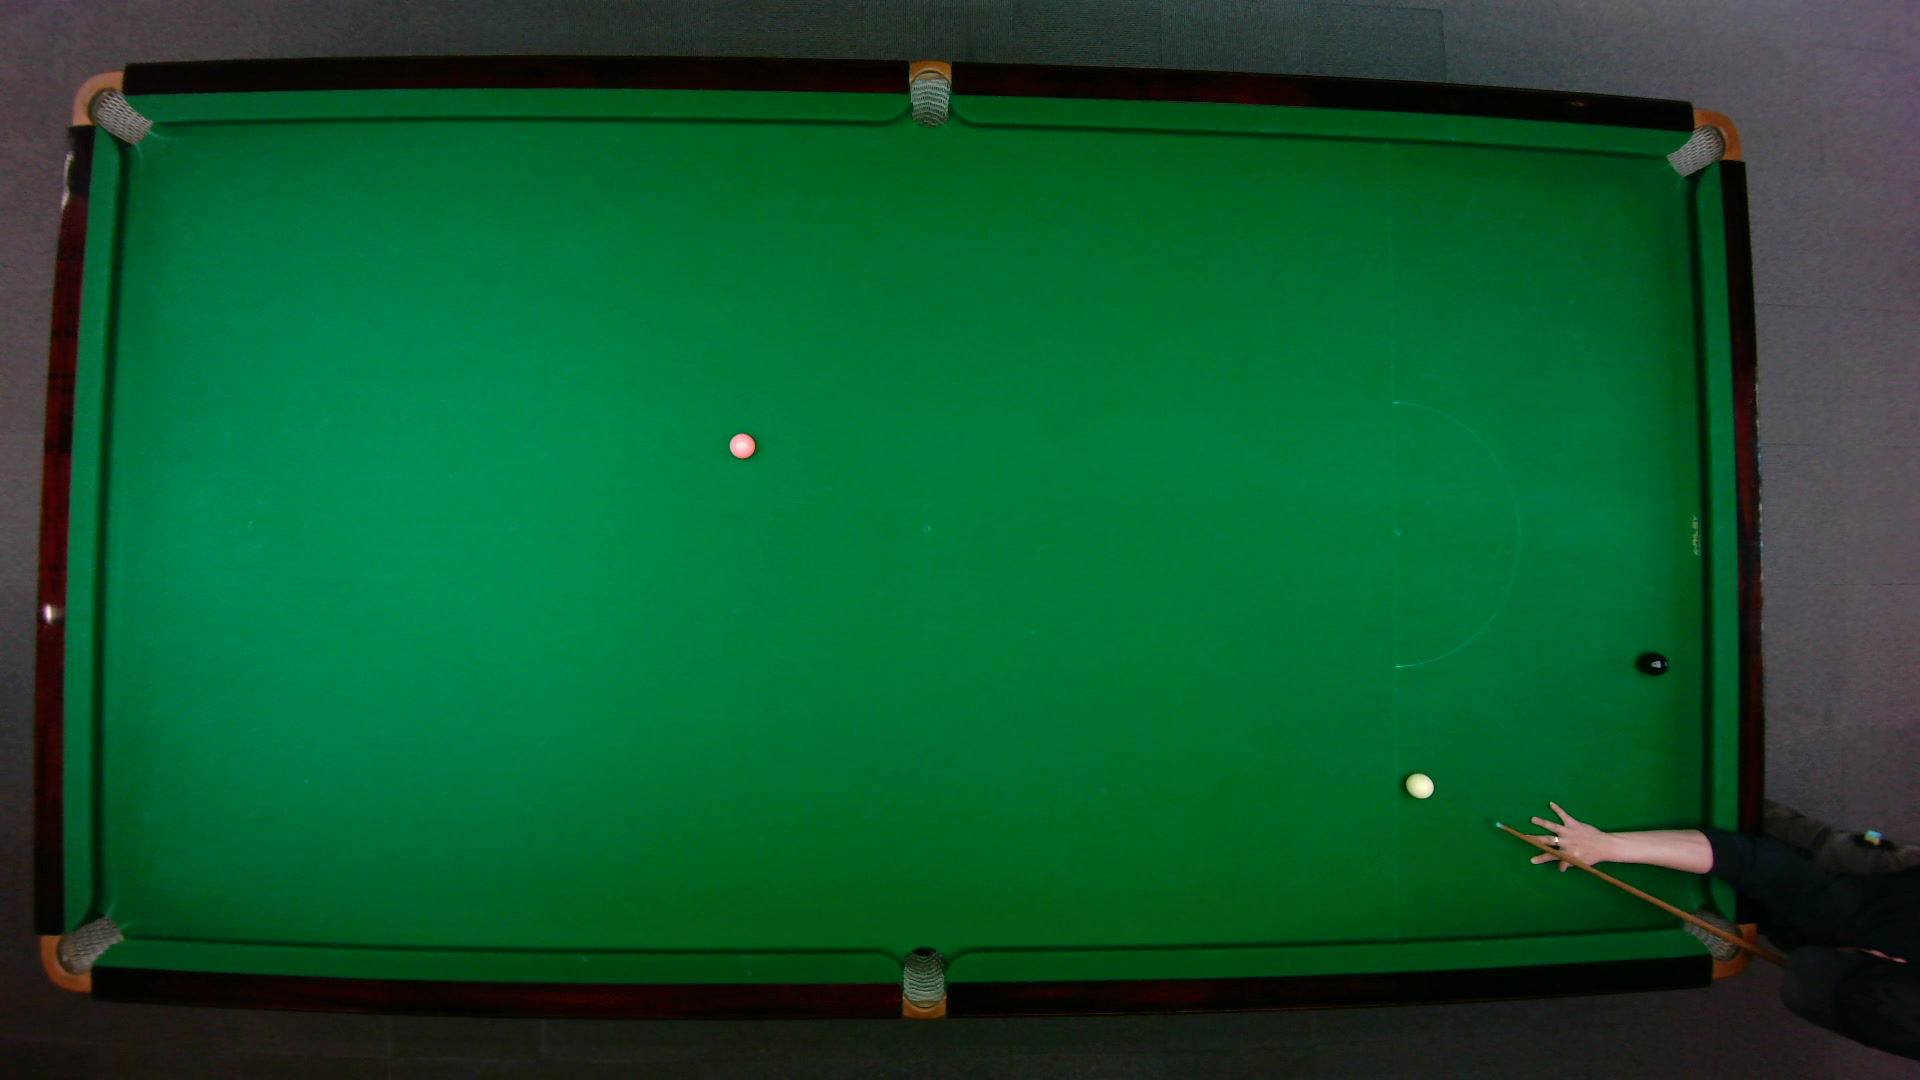bag: (38, 914, 125, 993), (69, 69, 153, 145), (1677, 902, 1759, 978), (1663, 107, 1741, 178), (901, 944, 944, 1021), (909, 58, 949, 128)
black: (1639, 651, 1669, 676)
cue: (1493, 818, 1791, 972)
pink: (727, 430, 756, 460)
white: (1403, 771, 1435, 798)
zone: (1390, 400, 1519, 667)
